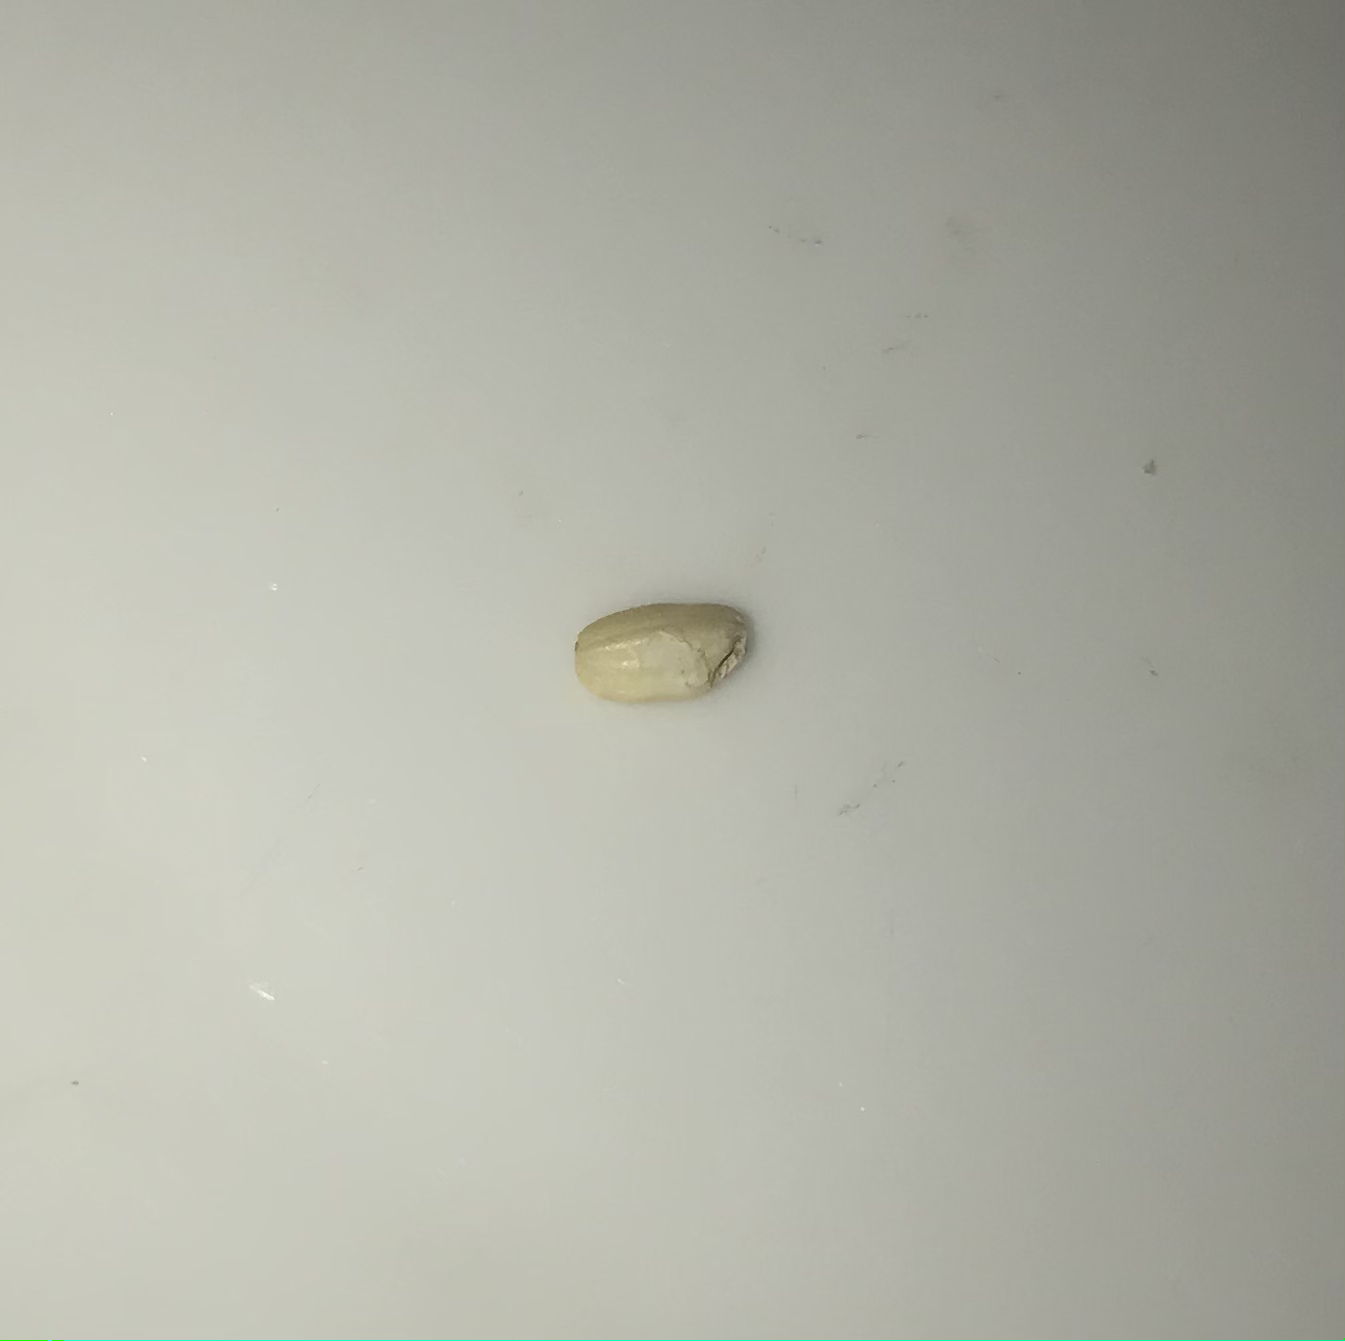Gao Lut Bac: (579, 591, 760, 707)
